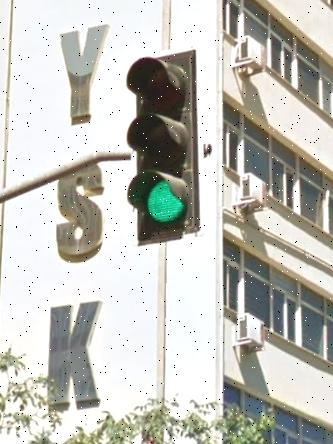greenlight: (131, 57, 193, 239)
